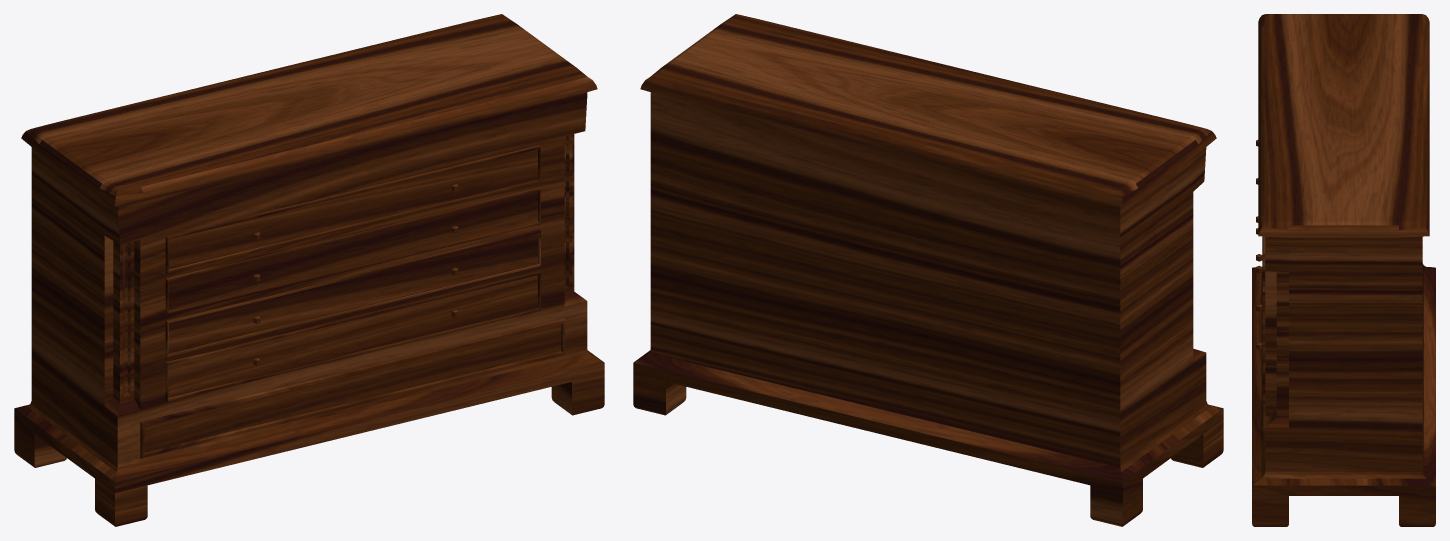
File: Commode.fbx
3 renders of one model, left to right at view 1: azimuth 30°, elevation 25°; view 2: azimuth 150°, elevation 25°; view 3: azimuth 270°, elevation 25°, orthographic. The views are drawn at different scales.
Parts seen in each view (by area): view 1: Cube; view 2: Cube; view 3: Cube.
Part boxes in pixels (bbox=[...]): Cube: bbox=[14, 14, 604, 526]; Cube: bbox=[633, 14, 1223, 526]; Cube: bbox=[1252, 14, 1435, 526].
Size of the model in its own units: 245 by 158 by 87.21.
1 material, 1 textured.
